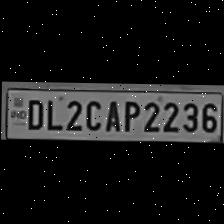2: (60, 96, 82, 131), (139, 98, 159, 132), (159, 99, 179, 133)
3: (178, 99, 198, 132)
6: (198, 99, 218, 132)
A: (100, 96, 120, 132)
C: (82, 97, 102, 130)
D: (22, 96, 44, 129)
L: (41, 96, 61, 130)
P: (119, 97, 139, 132)
